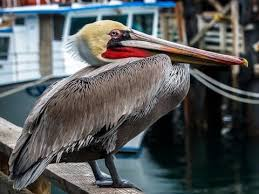pelican: (8, 20, 248, 187)
